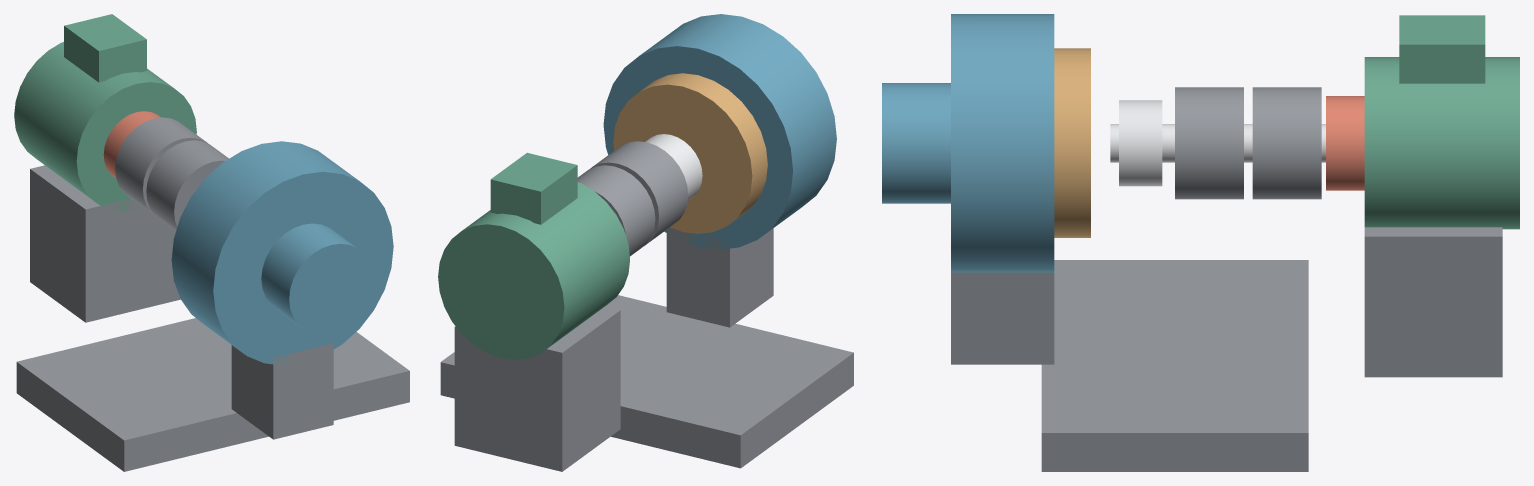
Rendered from pompe.glb.
The picture shows the model from 3 angles, left to right: view 1: azimuth 30°, elevation 25°; view 2: azimuth 150°, elevation 25°; view 3: azimuth 270°, elevation 25°; orthographic projection. The views are drawn at different scales.
Visible parts, largest first — view 1: socle, corps-volute, support-moteur, moteur, bride-aspiration, support-pompe, boite-bornes, palier-avant, palier-arriere, accouplement; view 2: socle, moteur, corps-volute, support-moteur, roue-a-aubes, support-pompe, boite-bornes, palier-avant, palier-arriere, garniture-mecanique; view 3: socle, corps-volute, moteur, support-moteur, support-pompe, bride-aspiration, palier-arriere, palier-avant, roue-a-aubes, boite-bornes, garniture-mecanique, accouplement (+1 smaller).
Part boxes in pixels (box(x1,y1,x2,y2)): socle: box(16, 318, 409, 471); corps-volute: box(171, 141, 393, 365); support-moteur: box(30, 165, 180, 322); moteur: box(14, 42, 196, 211); bride-aspiration: box(261, 223, 373, 334); support-pompe: box(231, 343, 333, 439); boite-bornes: box(64, 14, 146, 82); palier-avant: box(146, 140, 228, 230); palier-arriere: box(115, 117, 208, 217); accouplement: box(103, 111, 160, 178); socle: box(440, 295, 853, 468); moteur: box(438, 182, 629, 359); corps-volute: box(603, 14, 836, 249); support-moteur: box(454, 306, 620, 471); roue-a-aubes: box(613, 73, 767, 233); support-pompe: box(666, 227, 773, 327); boite-bornes: box(490, 152, 577, 224); palier-avant: box(590, 141, 688, 245); palier-arriere: box(577, 165, 655, 256); garniture-mecanique: box(645, 134, 702, 200); socle: box(1041, 260, 1308, 471); corps-volute: box(951, 14, 1054, 272); moteur: box(1364, 57, 1519, 229); support-moteur: box(1364, 227, 1502, 377); support-pompe: box(951, 272, 1054, 364); bride-aspiration: box(882, 83, 950, 203); palier-arriere: box(1252, 87, 1321, 199); palier-avant: box(1175, 87, 1243, 199); roue-a-aubes: box(1054, 48, 1090, 237); boite-bornes: box(1399, 15, 1485, 83); garniture-mecanique: box(1119, 100, 1162, 186); accouplement: box(1326, 96, 1364, 190).
Size of the model in its own units: 0.95 by 0.92 by 1.48.
